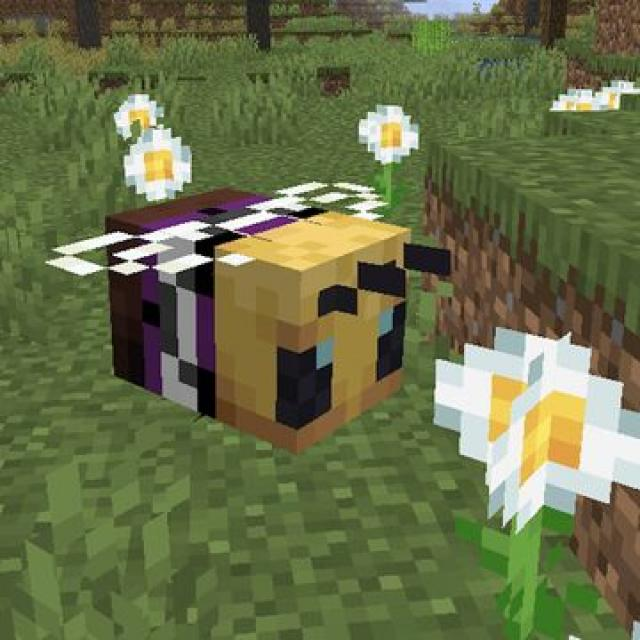Bee: (38, 170, 458, 461)
